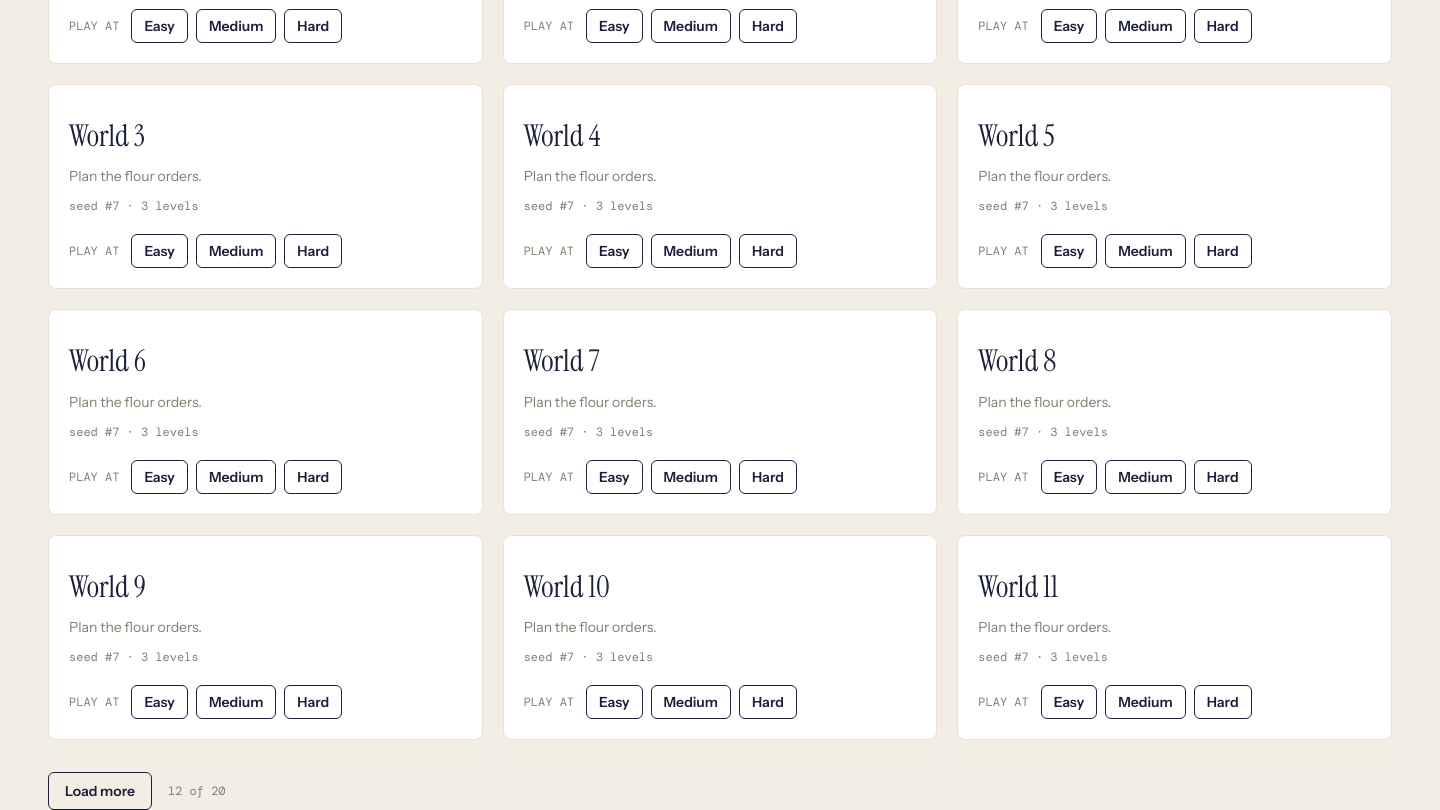
'Load more' fetches a larger page while more worlds exist
(page scrolled)
Check: the text "12 of 20" is shown, box [168,783,226,799]
Click the button "Load more".
click(100, 791)  # box [48,772,152,809]
(page scrolled)
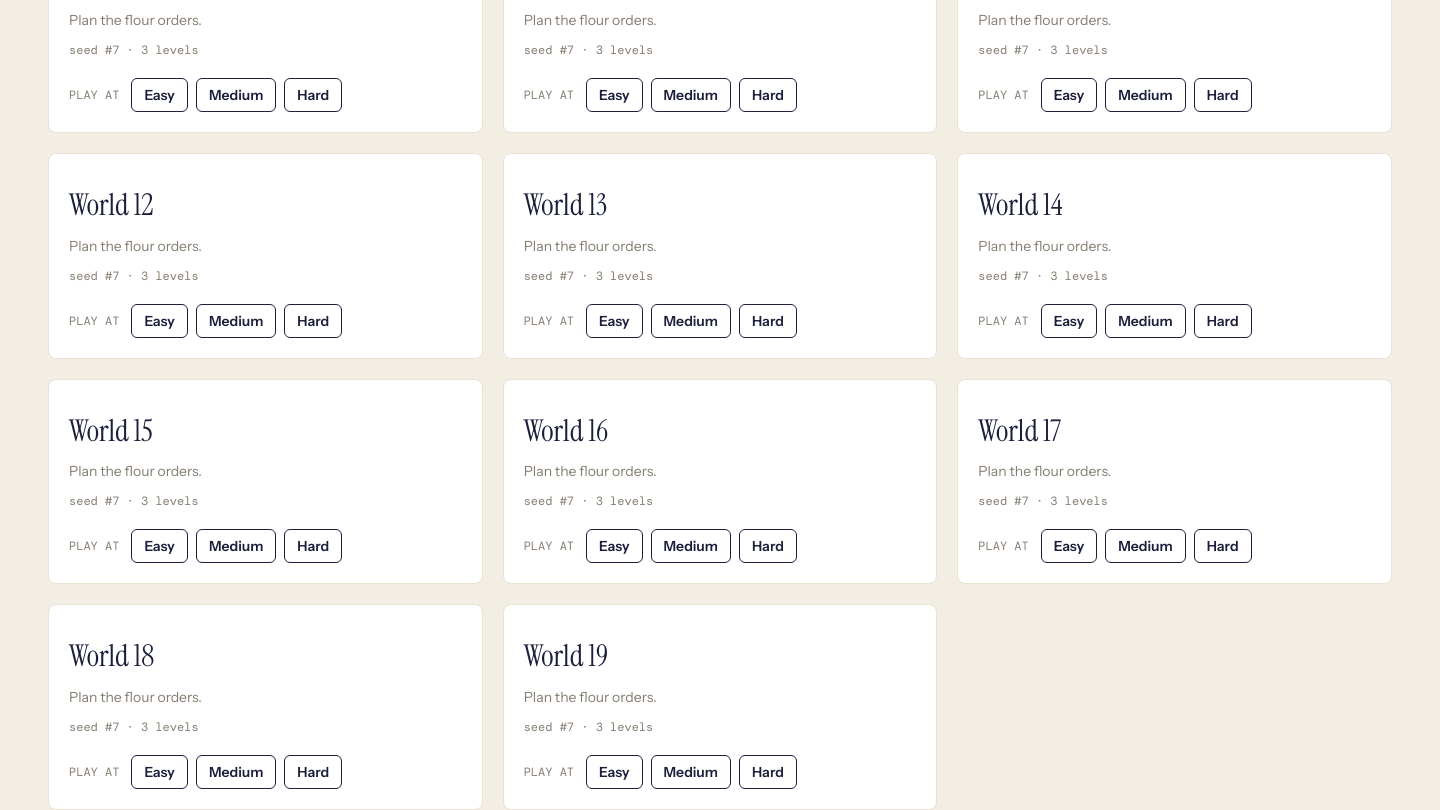
Check: the link "World 19" is shown, box [524,636,608,675]
Check: the button "Load more" is gone
